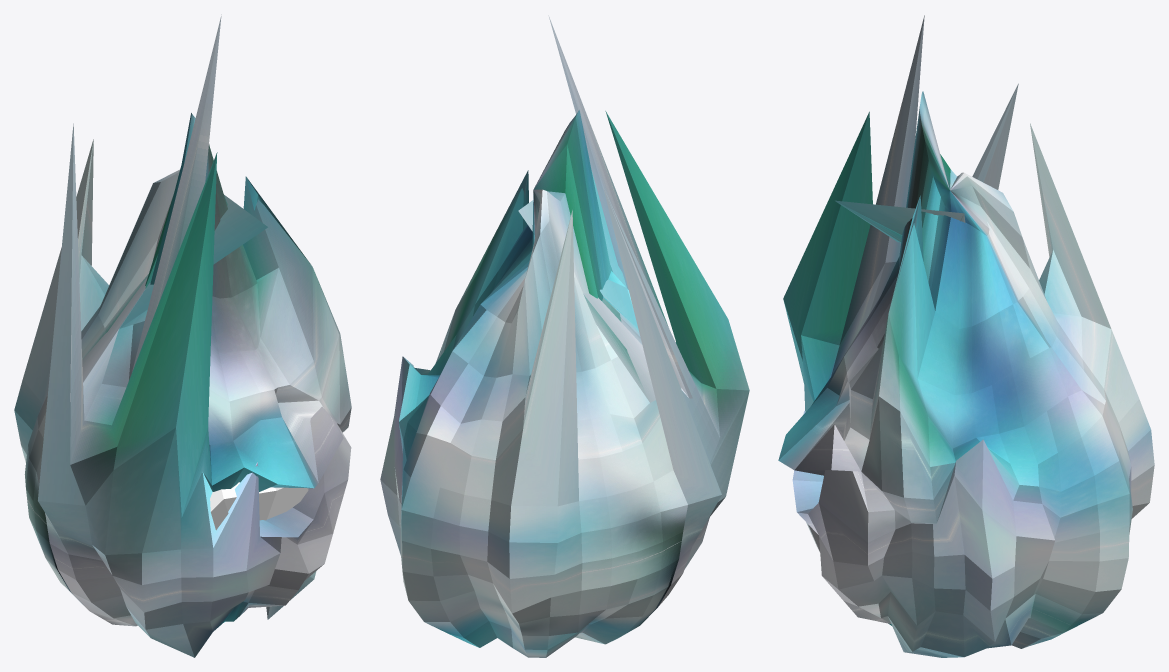
Rendered from thinkito.glb.
3 renders of one model, left to right at view 1: azimuth 30°, elevation 25°; view 2: azimuth 150°, elevation 25°; view 3: azimuth 270°, elevation 25°, orthographic. The views are drawn at different scales.
Visible parts, largest first — view 1: Sphere, Plane; view 2: Sphere; view 3: Sphere.
Boxes of the visible parts, left/top/right/bottom form: Sphere: left=14, top=14, right=351, bottom=657; Plane: left=210, top=482, right=308, bottom=530; Sphere: left=380, top=15, right=749, bottom=657; Sphere: left=778, top=15, right=1154, bottom=657.
Bounding box in the file's own units: 2.2 × 4.1 × 2.2.
Materials: 2 (1 with a texture image).
